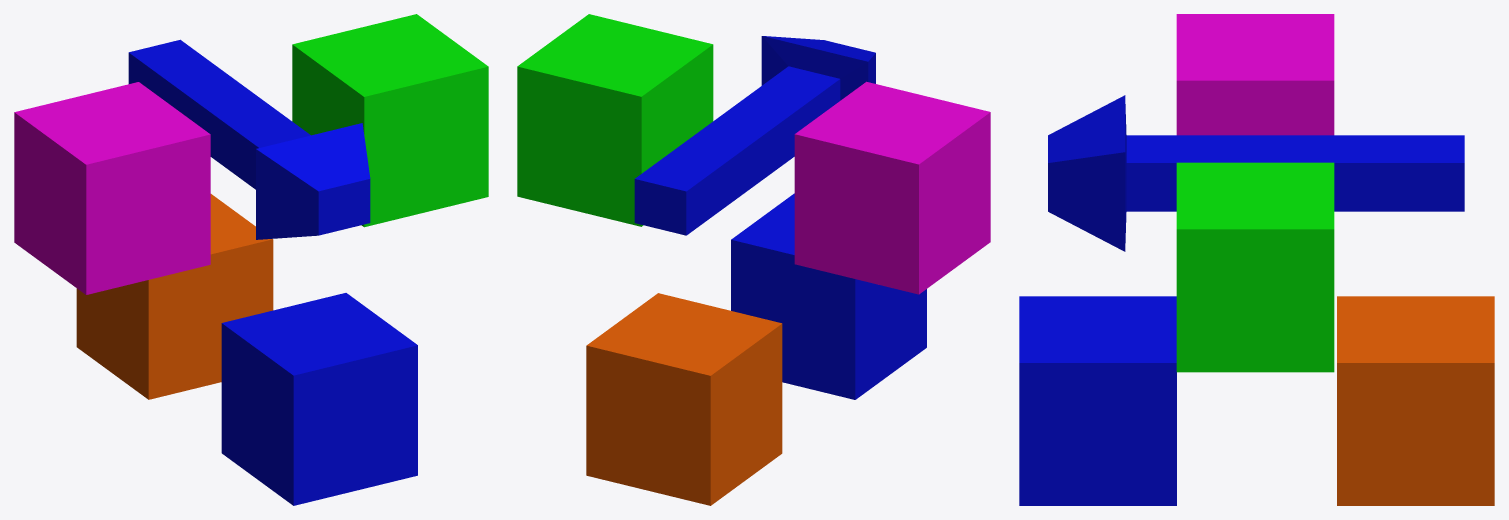
Rendered from testing3.glb.
The picture shows the model from 3 angles, left to right: view 1: azimuth 30°, elevation 25°; view 2: azimuth 150°, elevation 25°; view 3: azimuth 270°, elevation 25°; orthographic projection. The views are drawn at different scales.
Parts seen in each view (by area): view 1: Cube; view 2: Cube; view 3: Cube.
Part boxes in pixels (x1,y1,x2,y2): Cube: (14,14,488,505); Cube: (517,14,990,505); Cube: (1019,14,1494,505).
Size of the model in its own units: 6.46 by 4.94 by 6.03.
